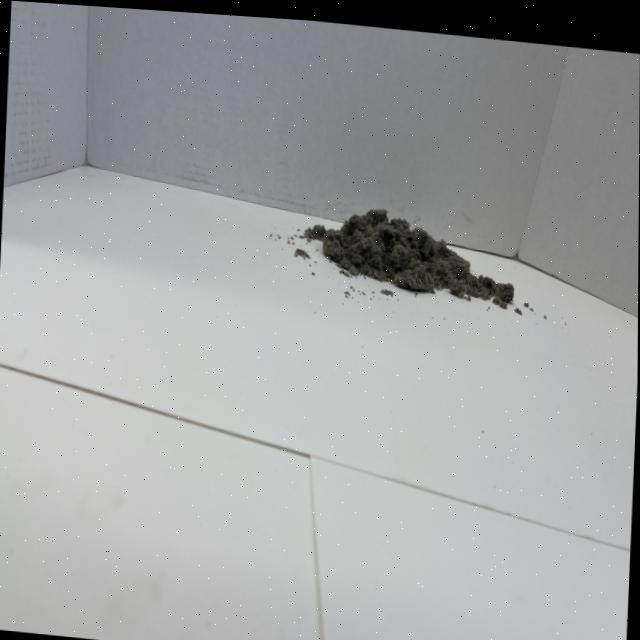sand: (328, 196, 510, 309)
